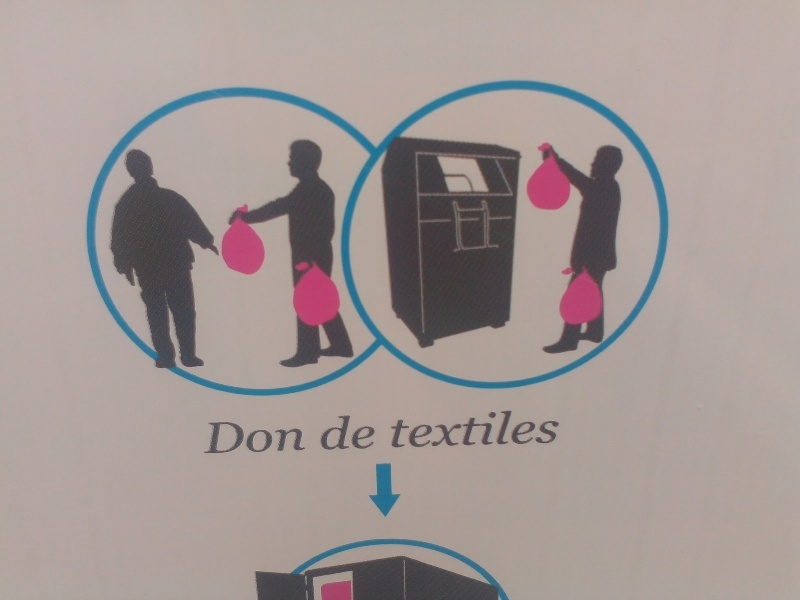text: (545, 410, 561, 449), (337, 413, 352, 452), (353, 413, 368, 452), (401, 410, 416, 449), (417, 410, 432, 449), (433, 410, 448, 449), (449, 410, 464, 449), (465, 410, 480, 449), (481, 410, 496, 449), (497, 410, 512, 449), (513, 410, 528, 449), (529, 410, 544, 449), (322, 413, 336, 452), (209, 422, 224, 455), (225, 422, 240, 455), (241, 422, 256, 455), (257, 422, 272, 455), (273, 422, 288, 455), (289, 422, 304, 455), (369, 413, 380, 452), (393, 410, 400, 449), (305, 422, 311, 455)
